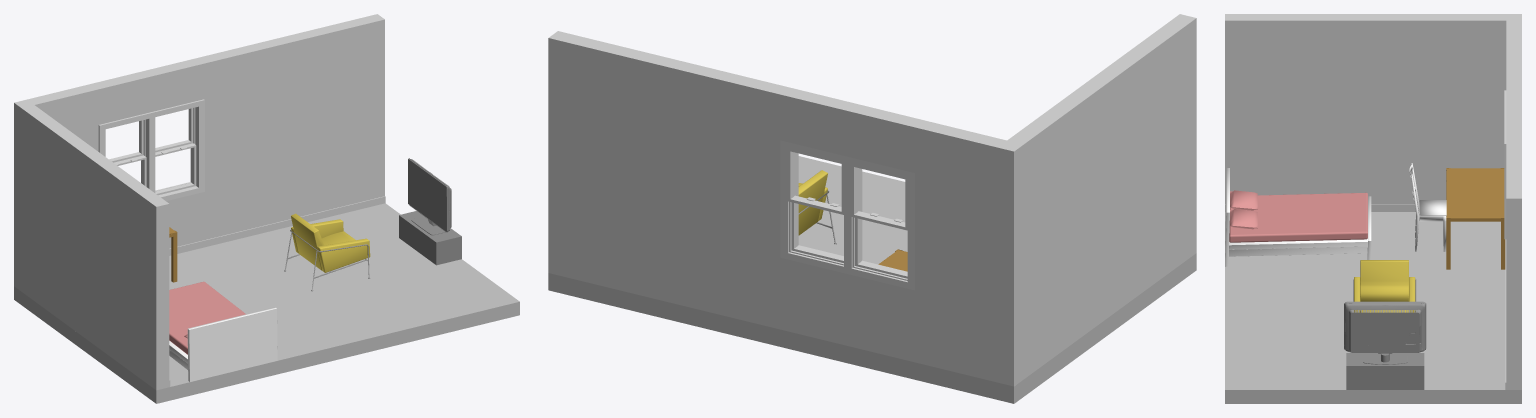
File: L12_W18_furniture3_privacy1.glb
3 renders of one model, left to right at view 1: azimuth 30°, elevation 25°; view 2: azimuth 150°, elevation 25°; view 3: azimuth 270°, elevation 25°, orthographic. The views are drawn at different scales.
Size of the model in its own units: 224 by 116 by 152.
